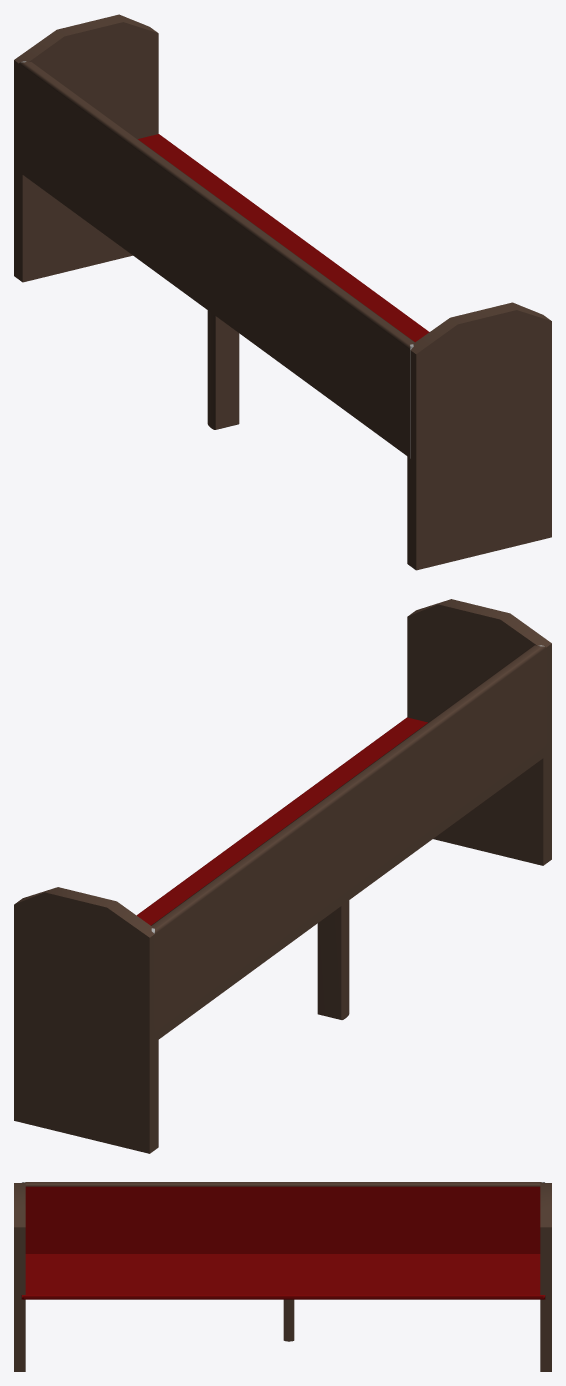
File: church pew.fbx
3 renders of one model, top to bottom at view 1: azimuth 30°, elevation 25°; view 2: azimuth 150°, elevation 25°; view 3: azimuth 270°, elevation 25°, orthographic. The views are drawn at different scales.
Visible parts, largest first — view 1: pasted__pCube3; view 2: pasted__pCube3; view 3: pasted__pCube3.
Part boxes in pixels (x1=…): pasted__pCube3: x1=14, y1=14, x2=551, y2=570; pasted__pCube3: x1=14, y1=599, x2=551, y2=1153; pasted__pCube3: x1=14, y1=1182, x2=551, y2=1371.
Size of the model in its own units: 0.3252 by 0.5537 by 1.65.
